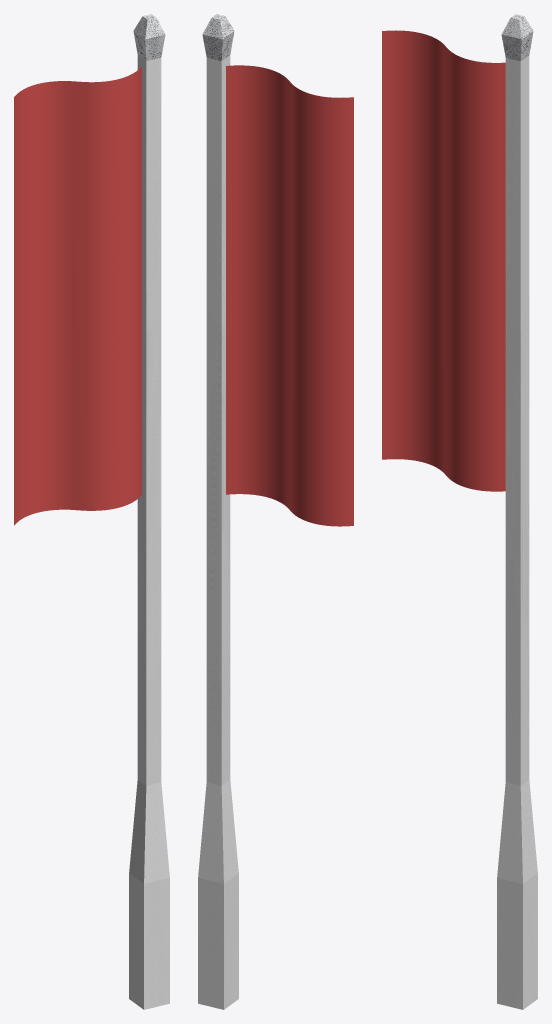
The model's file is flagRed.obj.
The picture shows the model from 3 angles, left to right: view 1: azimuth 30°, elevation 25°; view 2: azimuth 150°, elevation 25°; view 3: azimuth 330°, elevation 25°; orthographic projection.
Visible parts, largest first — view 1: flagRed, Group; view 2: flagRed, Group; view 3: flagRed, Group.
Part boxes in pixels (x1,y1,x2,y2): flagRed: (14, 66, 141, 525); Group: (129, 14, 169, 1009); flagRed: (226, 65, 353, 526); Group: (198, 14, 238, 1009); flagRed: (382, 30, 505, 491); Group: (497, 14, 537, 1009).
Bounding box in the file's own units: 0.1972 × 1.25 × 0.0352.
